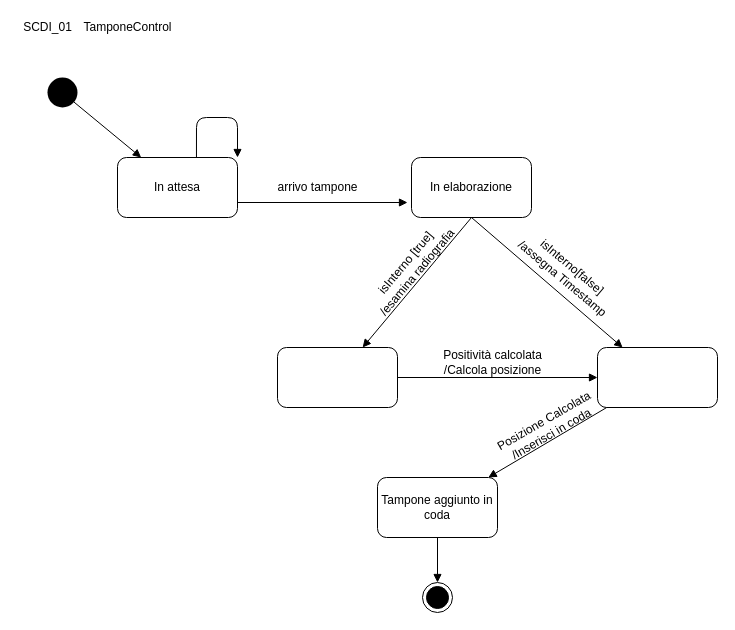
This 735x630 diagram has some shape labels left out. The shapes that lost their labels are listed below. From the top down, each one's centre as x and y in pixels, then its label:
(337,377): Elaborazione Probabilità di posistività
(657,377): Elaborazione Posizione in coda
